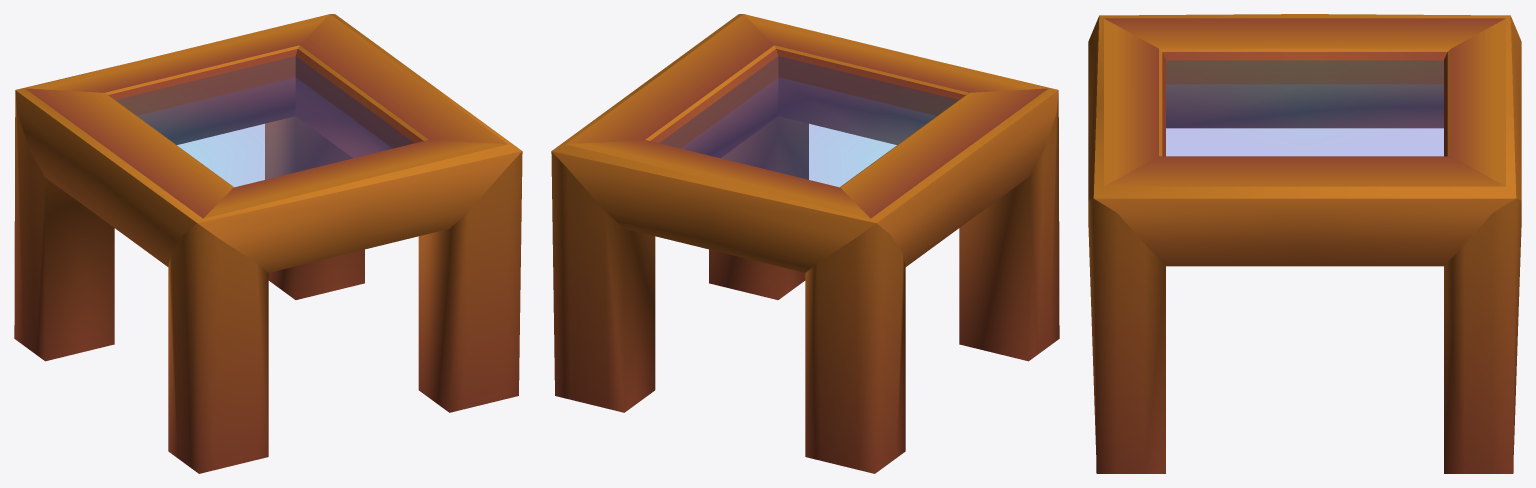
File: CoffeeTableSmall.fbx
3 renders of one model, left to right at view 1: azimuth 30°, elevation 25°; view 2: azimuth 150°, elevation 25°; view 3: azimuth 270°, elevation 25°, orthographic. The views are drawn at different scales.
Visible parts, largest first — view 1: Tablev4; view 2: Tablev4; view 3: Tablev4.
Boxes of the visible parts, <box> form: Tablev4: <box>14,14,522,473</box>; Tablev4: <box>551,14,1059,473</box>; Tablev4: <box>1088,14,1521,473</box>.
Bounding box in the file's own units: 2.08 × 1.5 × 2.08.
